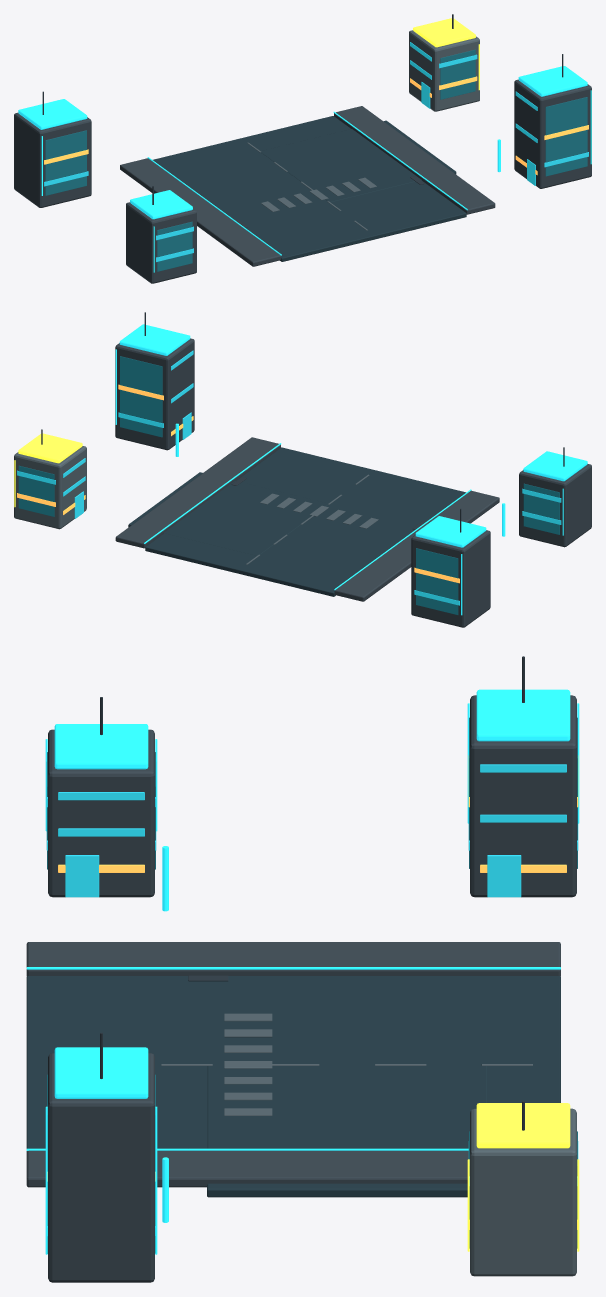
File: corner_left_lod1.glb
The picture shows the model from 3 angles, top to bottom: view 1: azimuth 30°, elevation 25°; view 2: azimuth 150°, elevation 25°; view 3: azimuth 270°, elevation 25°; orthographic projection. The views are drawn at different scales.
Parts seen in each view (by area): view 1: ND_Batch_ND_WetAsphalt, ND_Batch_ND_CityConcrete, ND_Batch_ND_RoadEdge, ND_Batch_ND_DarkGlass, ND_Batch_ND_CityCyanMuted, ND_Batch_ND_CityConcreteLight, ND_Batch_ND_NeonGlass, ND_Batch_ND_PackageGold, ND_Batch_ND_WarmWindow; view 2: ND_Batch_ND_WetAsphalt, ND_Batch_ND_CityConcrete, ND_Batch_ND_RoadEdge, ND_Batch_ND_DarkGlass, ND_Batch_ND_CityCyanMuted, ND_Batch_ND_CityConcreteLight, ND_Batch_ND_NeonGlass, ND_Batch_ND_PackageGold, ND_Batch_ND_WarmWindow; view 3: ND_Batch_ND_WetAsphalt, ND_Batch_ND_CityConcrete, ND_Batch_ND_RoadEdge, ND_Batch_ND_CityCyanMuted, ND_Batch_ND_CityConcreteLight, ND_Batch_ND_NeonGlass, ND_Batch_ND_PackageGold, ND_Batch_ND_WarmWindow, ND_Batch_ND_DarkGlass, ND_Batch_ND_RooftopMetal.
Part boxes in pixels (bbox=[...]): ND_Batch_ND_WetAsphalt: bbox=[153, 116, 466, 261]; ND_Batch_ND_CityConcrete: bbox=[14, 79, 591, 283]; ND_Batch_ND_RoadEdge: bbox=[120, 106, 495, 266]; ND_Batch_ND_DarkGlass: bbox=[45, 49, 587, 271]; ND_Batch_ND_CityCyanMuted: bbox=[18, 66, 591, 272]; ND_Batch_ND_CityConcreteLight: bbox=[247, 30, 479, 230]; ND_Batch_ND_NeonGlass: bbox=[44, 42, 588, 262]; ND_Batch_ND_PackageGold: bbox=[413, 18, 479, 90]; ND_Batch_ND_WarmWindow: bbox=[44, 76, 588, 175]; ND_Batch_ND_WetAsphalt: bbox=[128, 447, 465, 596]; ND_Batch_ND_CityConcrete: bbox=[115, 338, 591, 627]; ND_Batch_ND_RoadEdge: bbox=[115, 437, 499, 601]; ND_Batch_ND_DarkGlass: bbox=[18, 356, 559, 614]; ND_Batch_ND_CityCyanMuted: bbox=[115, 324, 587, 615]; ND_Batch_ND_CityConcreteLight: bbox=[14, 446, 378, 564]; ND_Batch_ND_NeonGlass: bbox=[17, 350, 561, 605]; ND_Batch_ND_PackageGold: bbox=[14, 433, 82, 507]; ND_Batch_ND_WarmWindow: bbox=[17, 384, 459, 583]; ND_Batch_ND_WetAsphalt: bbox=[26, 976, 560, 1197]; ND_Batch_ND_CityConcrete: bbox=[48, 695, 576, 1282]; ND_Batch_ND_RoadEdge: bbox=[26, 942, 560, 1187]; ND_Batch_ND_CityCyanMuted: bbox=[26, 689, 579, 1254]; ND_Batch_ND_CityConcreteLight: bbox=[161, 1013, 576, 1276]; ND_Batch_ND_NeonGlass: bbox=[46, 762, 578, 1235]; ND_Batch_ND_PackageGold: bbox=[467, 1103, 579, 1251]; ND_Batch_ND_WarmWindow: bbox=[47, 755, 578, 1229]; ND_Batch_ND_DarkGlass: bbox=[47, 717, 577, 1253]; ND_Batch_ND_RooftopMetal: bbox=[100, 656, 524, 1148].
Size of the model in its own units: 38.7 by 10.03 by 20.69.
